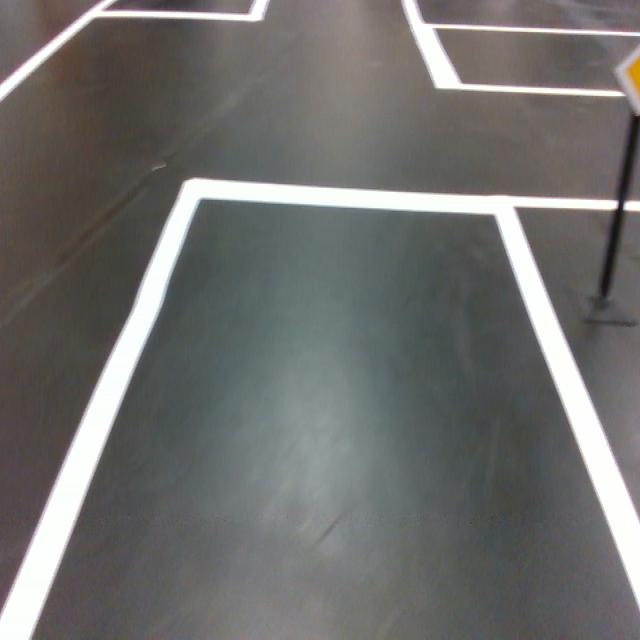priority-sign: (611, 43, 640, 118)
